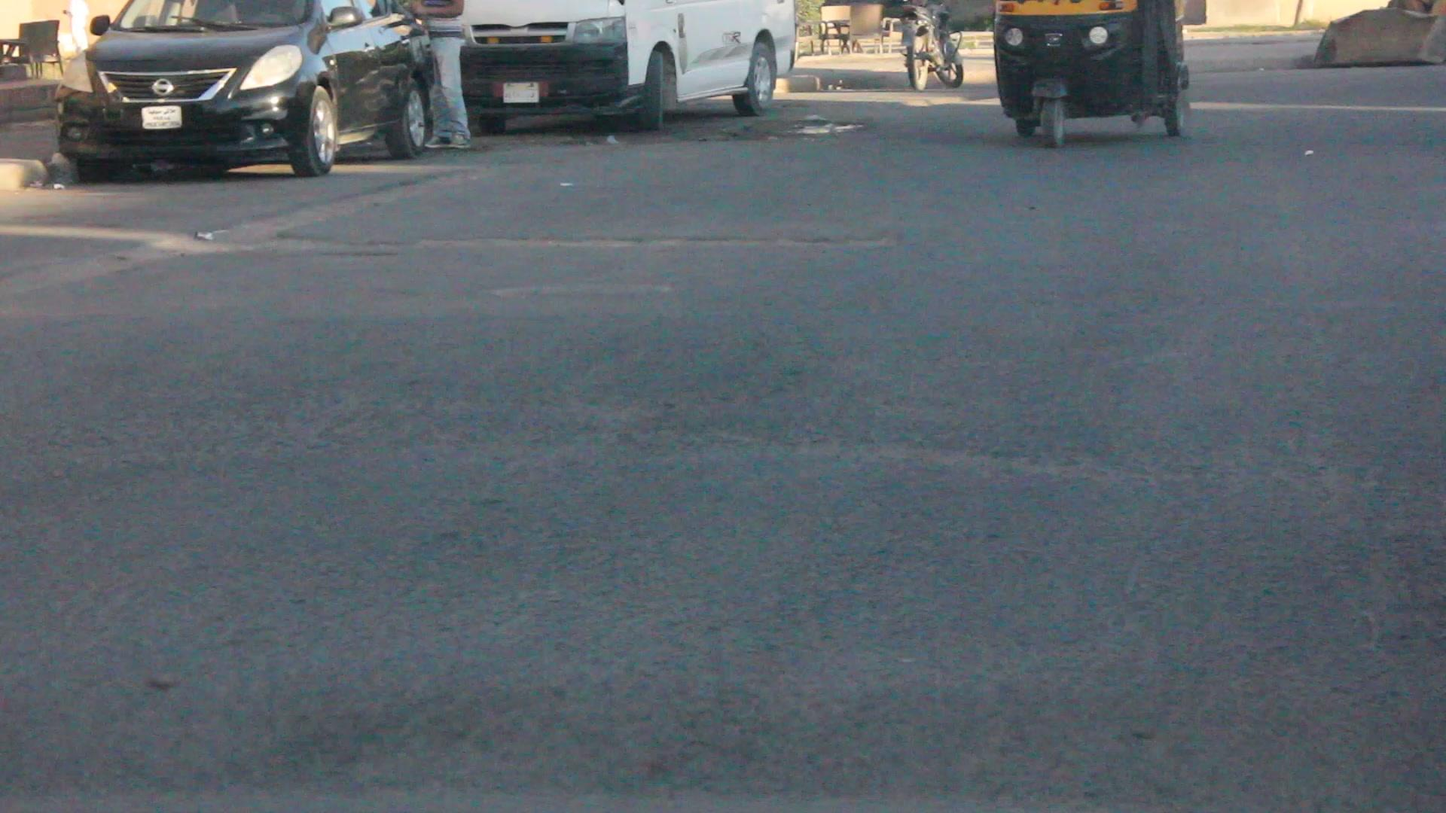Bump: (8, 307, 1446, 469)
Pothole: (196, 218, 904, 262), (740, 96, 870, 147)
